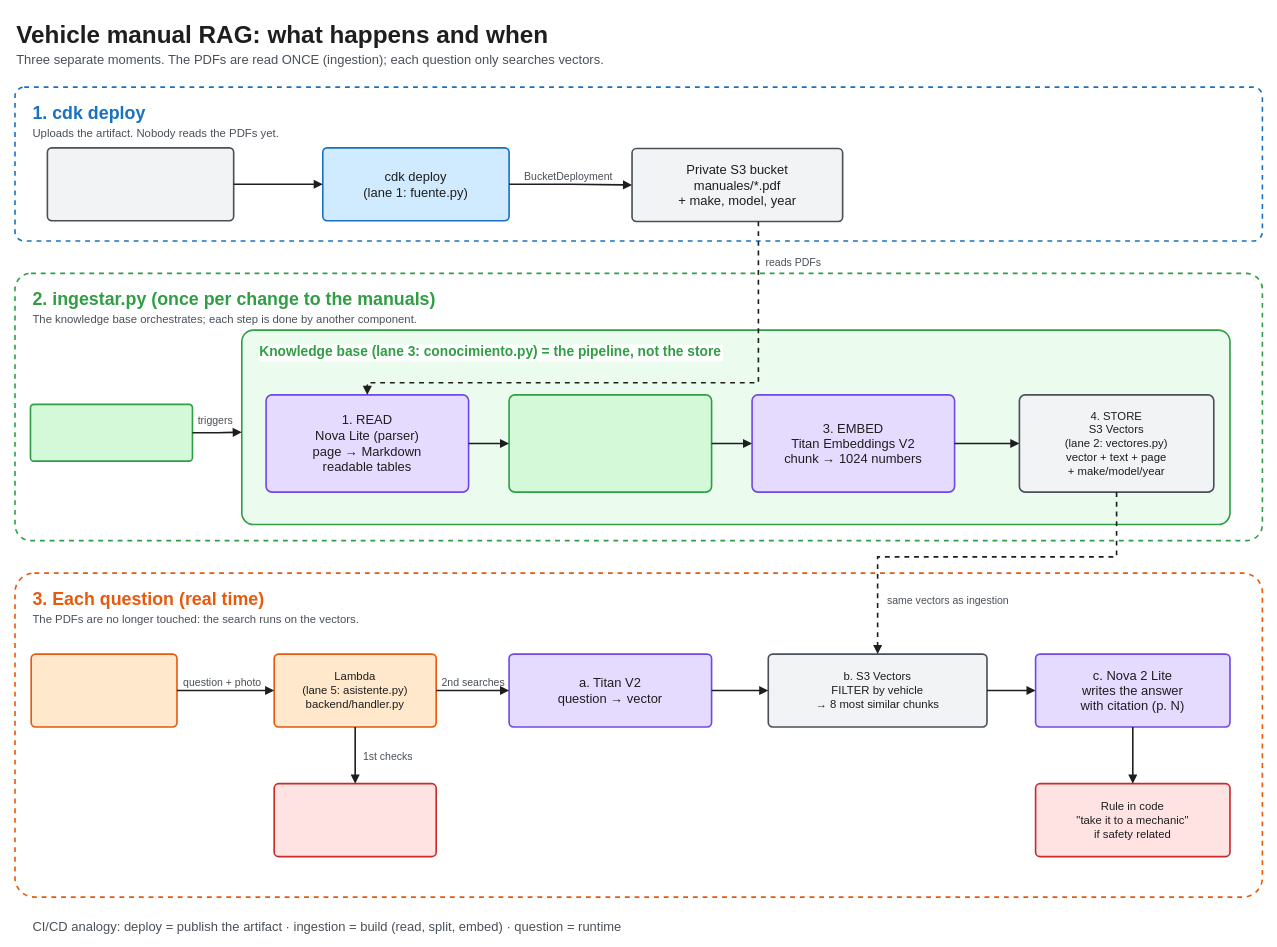
The diagram is 1277 pixels wide and 947 high, and some of its shapes have lost their labels. Each missing label, with the centre of its shape:
2. SPLIT fixed rule, no AI 300 tokens 15 % overlap: [610,443]
Guardrail (lane 4) in: injection, PII out: grounding check: [355,819]
ingestar.py "process now": [111,432]
Phone SPA on CloudFront (lane 6: web.py): [103,690]
Your machine corpus/pdf/ 6 PDFs + .metadata.json: [140,184]
